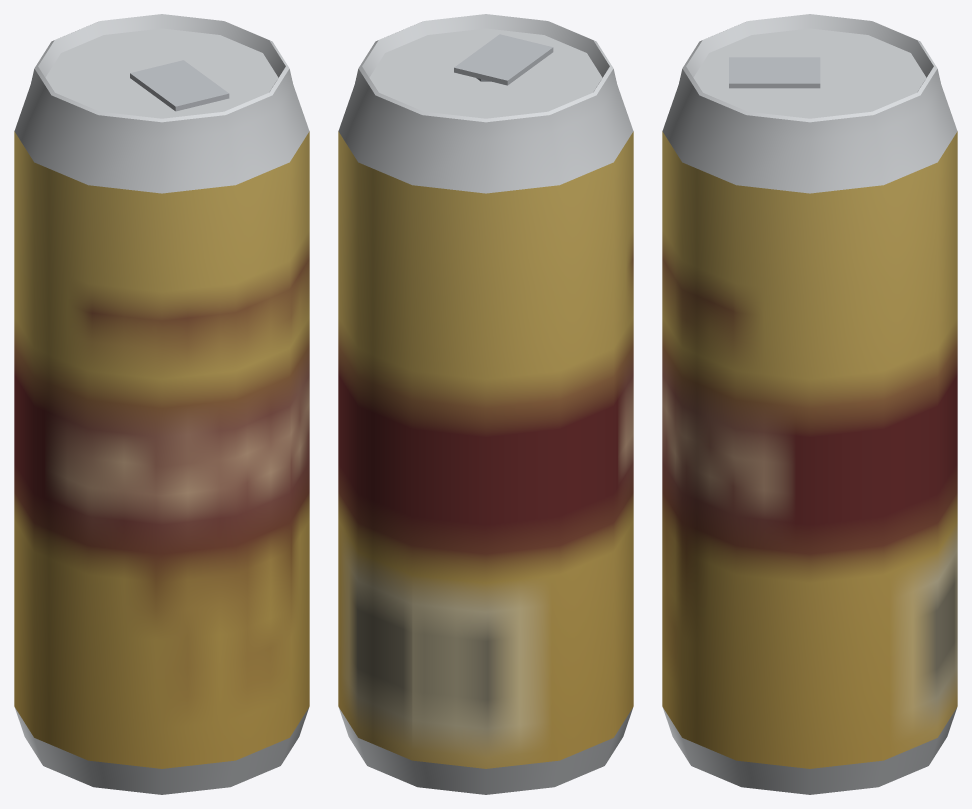
File: SC_Prod_Beer_Can_Gold.gltf
3 renders of one model, left to right at view 1: azimuth 30°, elevation 25°; view 2: azimuth 150°, elevation 25°; view 3: azimuth 270°, elevation 25°, orthographic.
Parts seen in each view (by area): view 1: SC_Prod_Beer_Can_Gold; view 2: SC_Prod_Beer_Can_Gold; view 3: SC_Prod_Beer_Can_Gold.
Part boxes in pixels (box(x1,y1,x2,y2)): SC_Prod_Beer_Can_Gold: box(14, 14, 309, 794); SC_Prod_Beer_Can_Gold: box(338, 14, 633, 794); SC_Prod_Beer_Can_Gold: box(662, 14, 957, 794).
Size of the model in its own units: 0.066 by 0.168 by 0.066.
2 materials, 2 textured.
